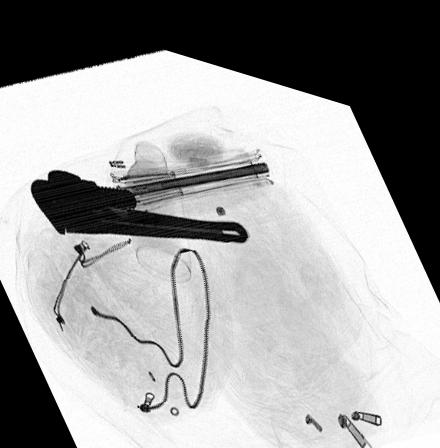Wrench: (30, 166, 248, 233)
